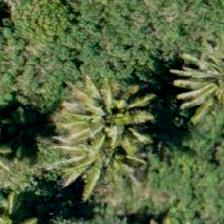Kelapa_Sawit: (67, 66, 157, 156)
